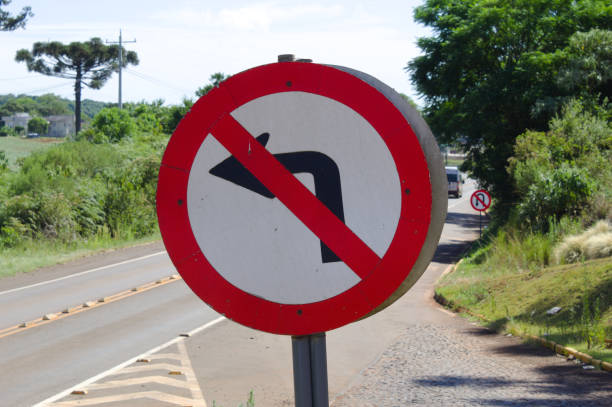sola_girilmez: (149, 58, 429, 340)
